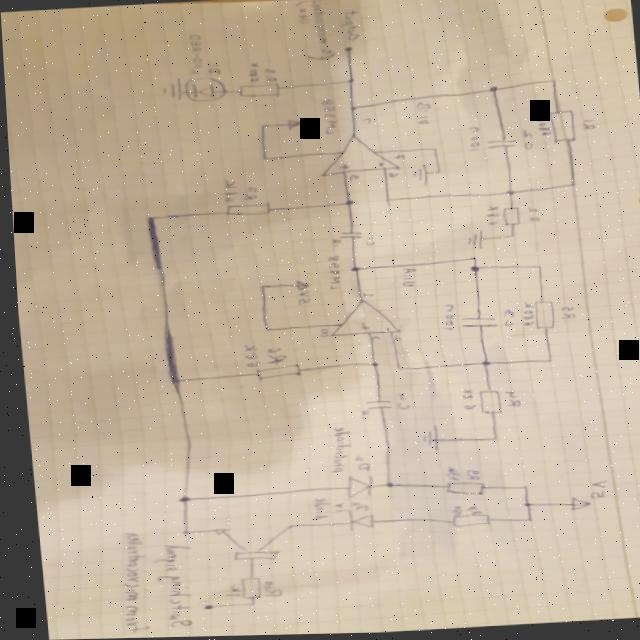capacitor: (454, 315, 495, 331), (483, 139, 518, 151), (357, 400, 389, 412), (335, 231, 361, 241)
diode: (182, 76, 227, 103), (336, 474, 370, 500), (337, 510, 372, 534)
ground: (157, 77, 183, 101), (413, 426, 435, 454), (408, 164, 429, 188), (462, 231, 482, 251)
junction: (162, 376, 181, 386), (382, 198, 390, 209), (465, 267, 478, 273), (487, 87, 498, 94), (341, 200, 353, 206), (503, 191, 514, 197), (346, 267, 357, 273), (174, 529, 185, 535), (344, 79, 355, 85), (143, 215, 154, 221), (347, 106, 357, 112), (516, 503, 527, 508), (174, 497, 184, 502), (477, 362, 487, 367), (259, 327, 269, 332), (466, 256, 474, 262), (485, 437, 494, 442), (366, 363, 376, 367), (378, 484, 388, 488), (255, 285, 265, 289), (390, 367, 400, 371), (505, 235, 514, 239), (433, 170, 440, 175), (567, 184, 575, 188), (548, 81, 556, 85), (516, 487, 524, 491), (532, 266, 540, 270), (519, 519, 527, 523), (541, 360, 549, 364), (258, 156, 266, 160), (258, 124, 266, 128), (241, 603, 248, 607), (431, 149, 437, 153)
resistor: (546, 111, 579, 146), (250, 363, 297, 381), (235, 83, 281, 100), (528, 302, 553, 332), (221, 202, 269, 217), (471, 390, 498, 415), (436, 481, 478, 497), (444, 513, 486, 529), (233, 576, 256, 599), (499, 207, 521, 227)
source: (563, 497, 586, 512), (285, 119, 301, 130), (292, 281, 306, 290)
terminal: (196, 605, 207, 610), (343, 48, 352, 52)
text: (146, 543, 189, 626), (110, 532, 144, 632), (292, 0, 337, 62), (321, 425, 351, 474), (339, 8, 364, 44), (317, 99, 338, 136), (186, 34, 204, 74), (322, 254, 341, 291), (304, 497, 325, 521), (464, 126, 482, 154), (237, 343, 257, 368), (218, 178, 238, 203), (437, 304, 454, 333), (581, 480, 603, 501), (412, 102, 431, 126), (395, 267, 415, 289), (516, 302, 533, 327), (532, 116, 550, 139), (260, 347, 284, 364), (455, 388, 472, 411), (482, 206, 499, 227), (348, 454, 366, 473), (255, 580, 275, 597), (519, 130, 534, 152), (245, 63, 261, 83), (499, 391, 516, 409), (389, 393, 406, 411), (341, 500, 364, 513), (498, 310, 514, 328), (261, 67, 278, 83), (298, 123, 315, 138), (239, 186, 257, 200), (323, 501, 342, 514), (523, 207, 538, 223), (556, 307, 573, 321), (458, 505, 477, 517), (578, 120, 595, 133), (459, 470, 475, 483), (351, 408, 368, 420), (439, 468, 452, 482), (294, 291, 307, 305), (206, 63, 221, 75), (443, 505, 457, 517), (220, 586, 235, 597), (334, 164, 349, 171), (360, 238, 373, 246), (327, 239, 340, 247), (359, 117, 372, 125), (345, 174, 359, 181), (314, 329, 326, 337), (391, 154, 404, 160), (358, 292, 371, 298), (356, 324, 366, 331), (366, 336, 377, 342), (387, 336, 398, 342), (385, 173, 395, 179), (380, 327, 388, 332), (377, 162, 383, 168)
transistor: (205, 523, 290, 563)
